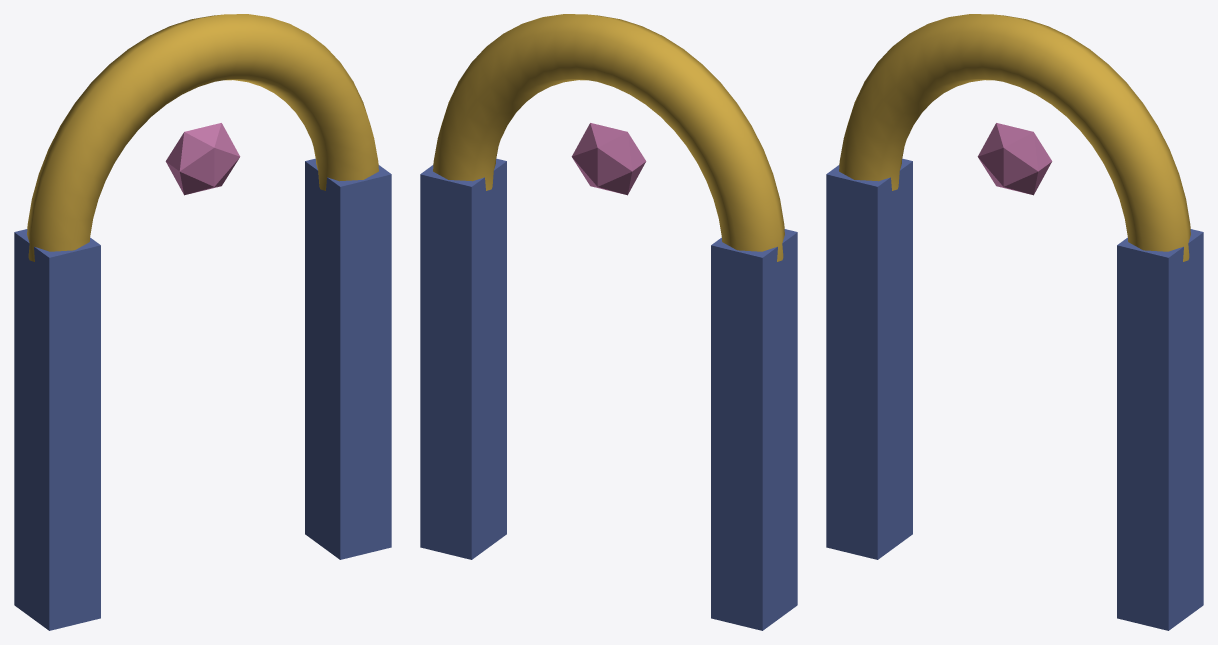
File: gateway.glb
The picture shows the model from 3 angles, left to right: view 1: azimuth 30°, elevation 25°; view 2: azimuth 150°, elevation 25°; view 3: azimuth 330°, elevation 25°; orthographic projection.
Parts seen in each view (by area): view 1: pillar_-1, pillar_1, arch, keystone; view 2: pillar_-1, pillar_1, arch, keystone; view 3: pillar_1, pillar_-1, arch, keystone.
Boxes of the visible parts, box(x1,y1,x2,y2) form: pillar_-1: box(14, 229, 100, 630); pillar_1: box(305, 158, 391, 559); arch: box(27, 14, 378, 261); keystone: box(165, 123, 240, 195); pillar_-1: box(711, 229, 797, 630); pillar_1: box(420, 158, 506, 559); arch: box(433, 14, 784, 261); keystone: box(571, 123, 646, 195); pillar_1: box(1117, 229, 1203, 630); pillar_-1: box(826, 158, 912, 559); arch: box(839, 14, 1190, 261); keystone: box(977, 123, 1052, 195).
Size of what is drawn, in the model's own units: 3.7 by 5.69 by 0.65.
